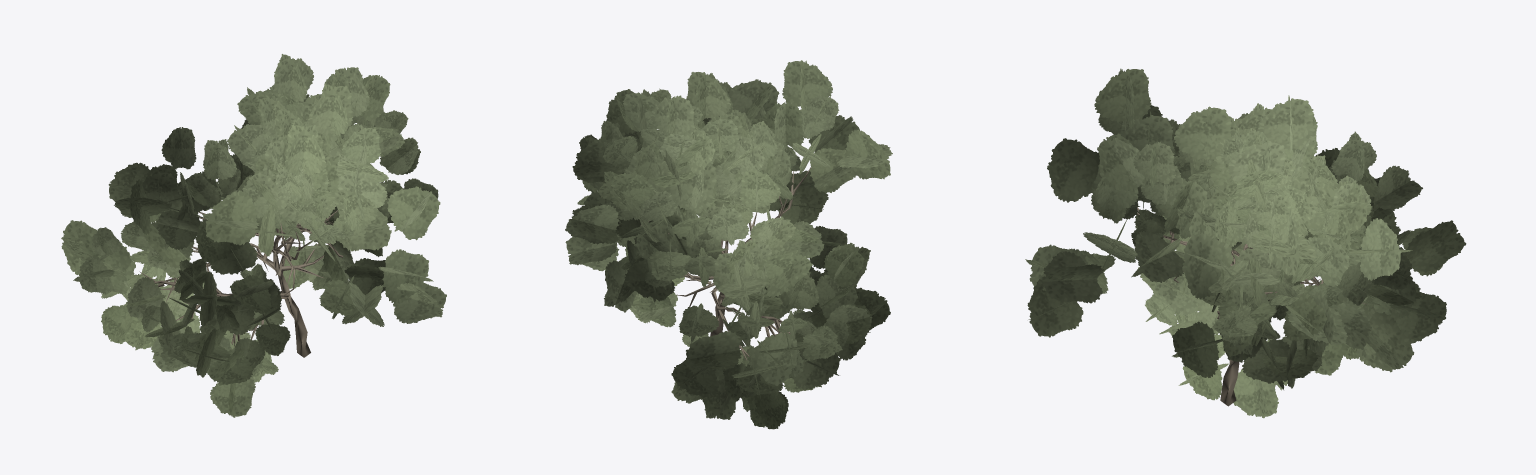
Rendered from olivo-bajo.glb.
3 renders of one model, left to right at view 1: azimuth 30°, elevation 25°; view 2: azimuth 150°, elevation 25°; view 3: azimuth 270°, elevation 25°, orthographic. The views are drawn at different scales.
Visible parts, largest first — view 1: olivo; view 2: olivo; view 3: olivo.
Boxes of the visible parts, left/top/right/bottom form: olivo: left=61, top=54, right=446, bottom=417; olivo: left=565, top=60, right=892, bottom=429; olivo: left=1025, top=68, right=1466, bottom=418.
Bounding box in the file's own units: 7.49 × 7.29 × 8.48.
2 materials, 1 textured.
